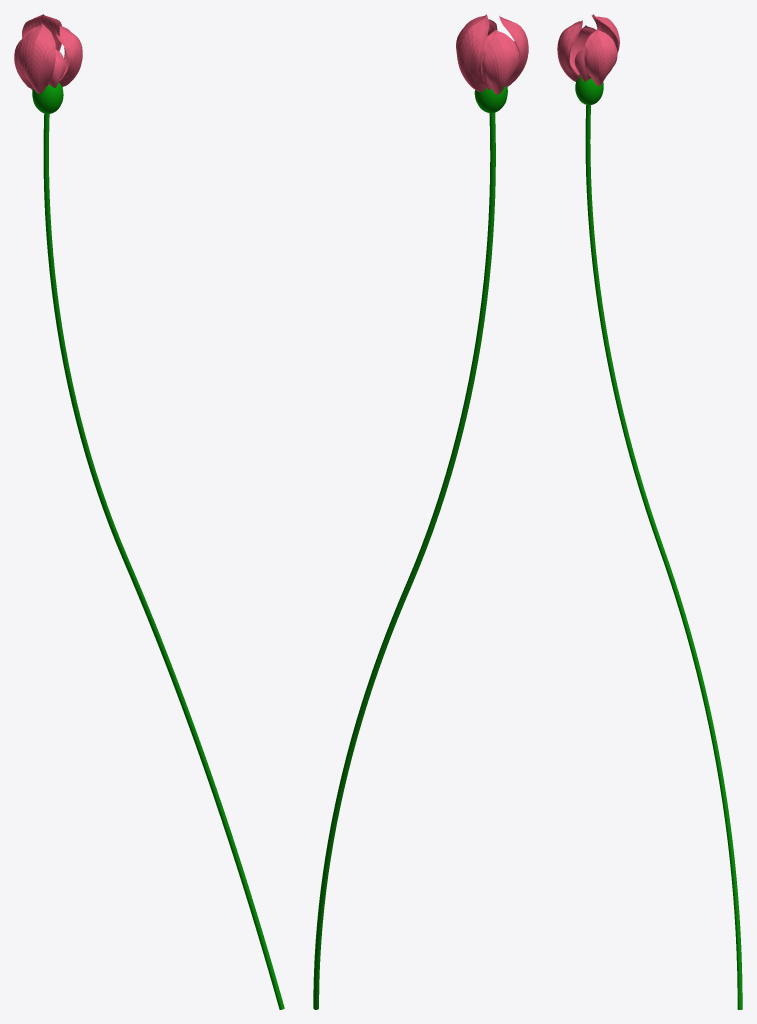
The model's file is Lotus013.fbx.
3 views of the same model, side by side, from view 1: azimuth 30°, elevation 25°; view 2: azimuth 150°, elevation 25°; view 3: azimuth 330°, elevation 25° (orthographic). The views are drawn at different scales.
Parts seen in each view (by area): view 1: pCylinder5, nurbsToPoly11, nurbsToPoly24, pSphere4; view 2: pCylinder5, nurbsToPoly10, nurbsToPoly12, nurbsToPoly11, pSphere4; view 3: pCylinder5, nurbsToPoly24, nurbsToPoly11, pSphere4.
Boxes of the visible parts, x1=… form: pCylinder5: x1=43, y1=113, x2=284, y2=1009; nurbsToPoly11: x1=17, y1=23, x2=55, y2=93; nurbsToPoly24: x1=59, y1=25, x2=82, y2=87; pSphere4: x1=32, y1=82, x2=63, y2=113; pCylinder5: x1=313, y1=112, x2=495, y2=1009; nurbsToPoly10: x1=456, y1=14, x2=489, y2=91; nurbsToPoly12: x1=481, y1=29, x2=519, y2=95; nurbsToPoly11: x1=499, y1=15, x2=528, y2=86; pSphere4: x1=474, y1=86, x2=507, y2=113; pCylinder5: x1=585, y1=105, x2=742, y2=1009; nurbsToPoly24: x1=584, y1=29, x2=617, y2=85; nurbsToPoly11: x1=557, y1=20, x2=582, y2=81; pSphere4: x1=575, y1=74, x2=603, y2=105.
Bounding box in the file's own units: 49.35 × 207 × 20.12.
